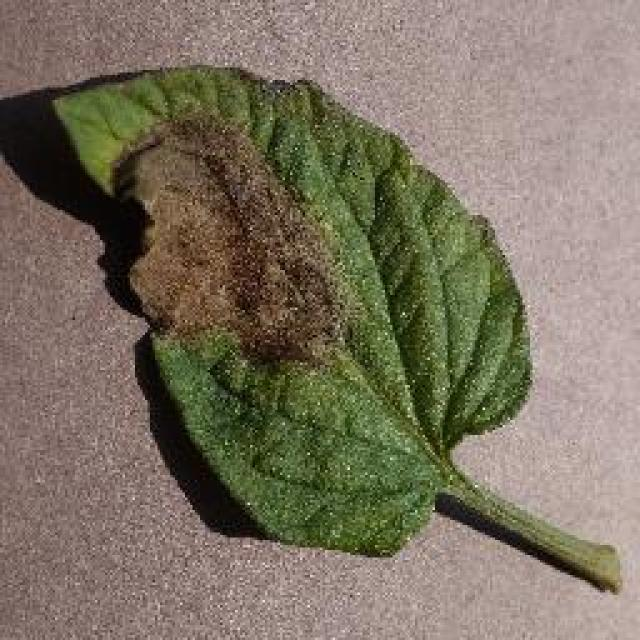Tomato_Late_Blight: (130, 127, 334, 356)
